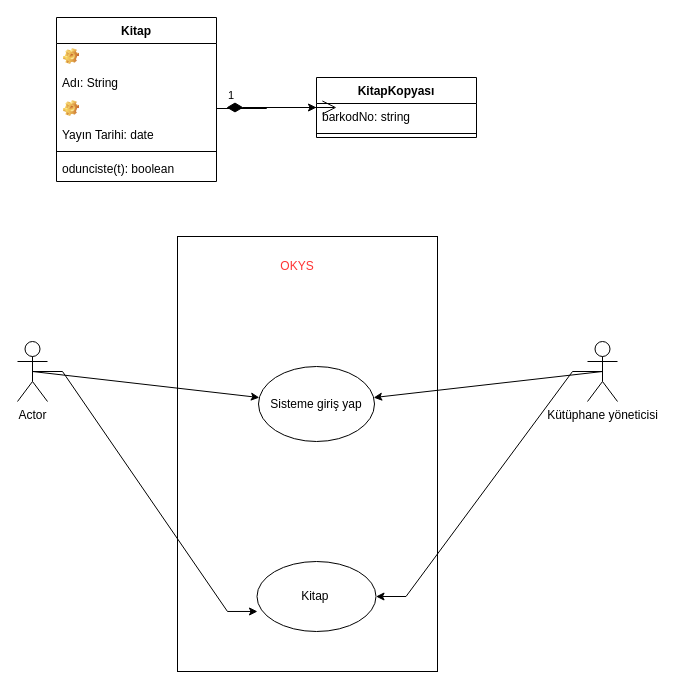
Image size: 675x689. Some labels were removed from this diagram. Here are the shapes that lost their labels. From the top down, the centre of each, then its label:
At point (136, 56): "ISBN: string".
At point (136, 108): "Yazarı : string".
